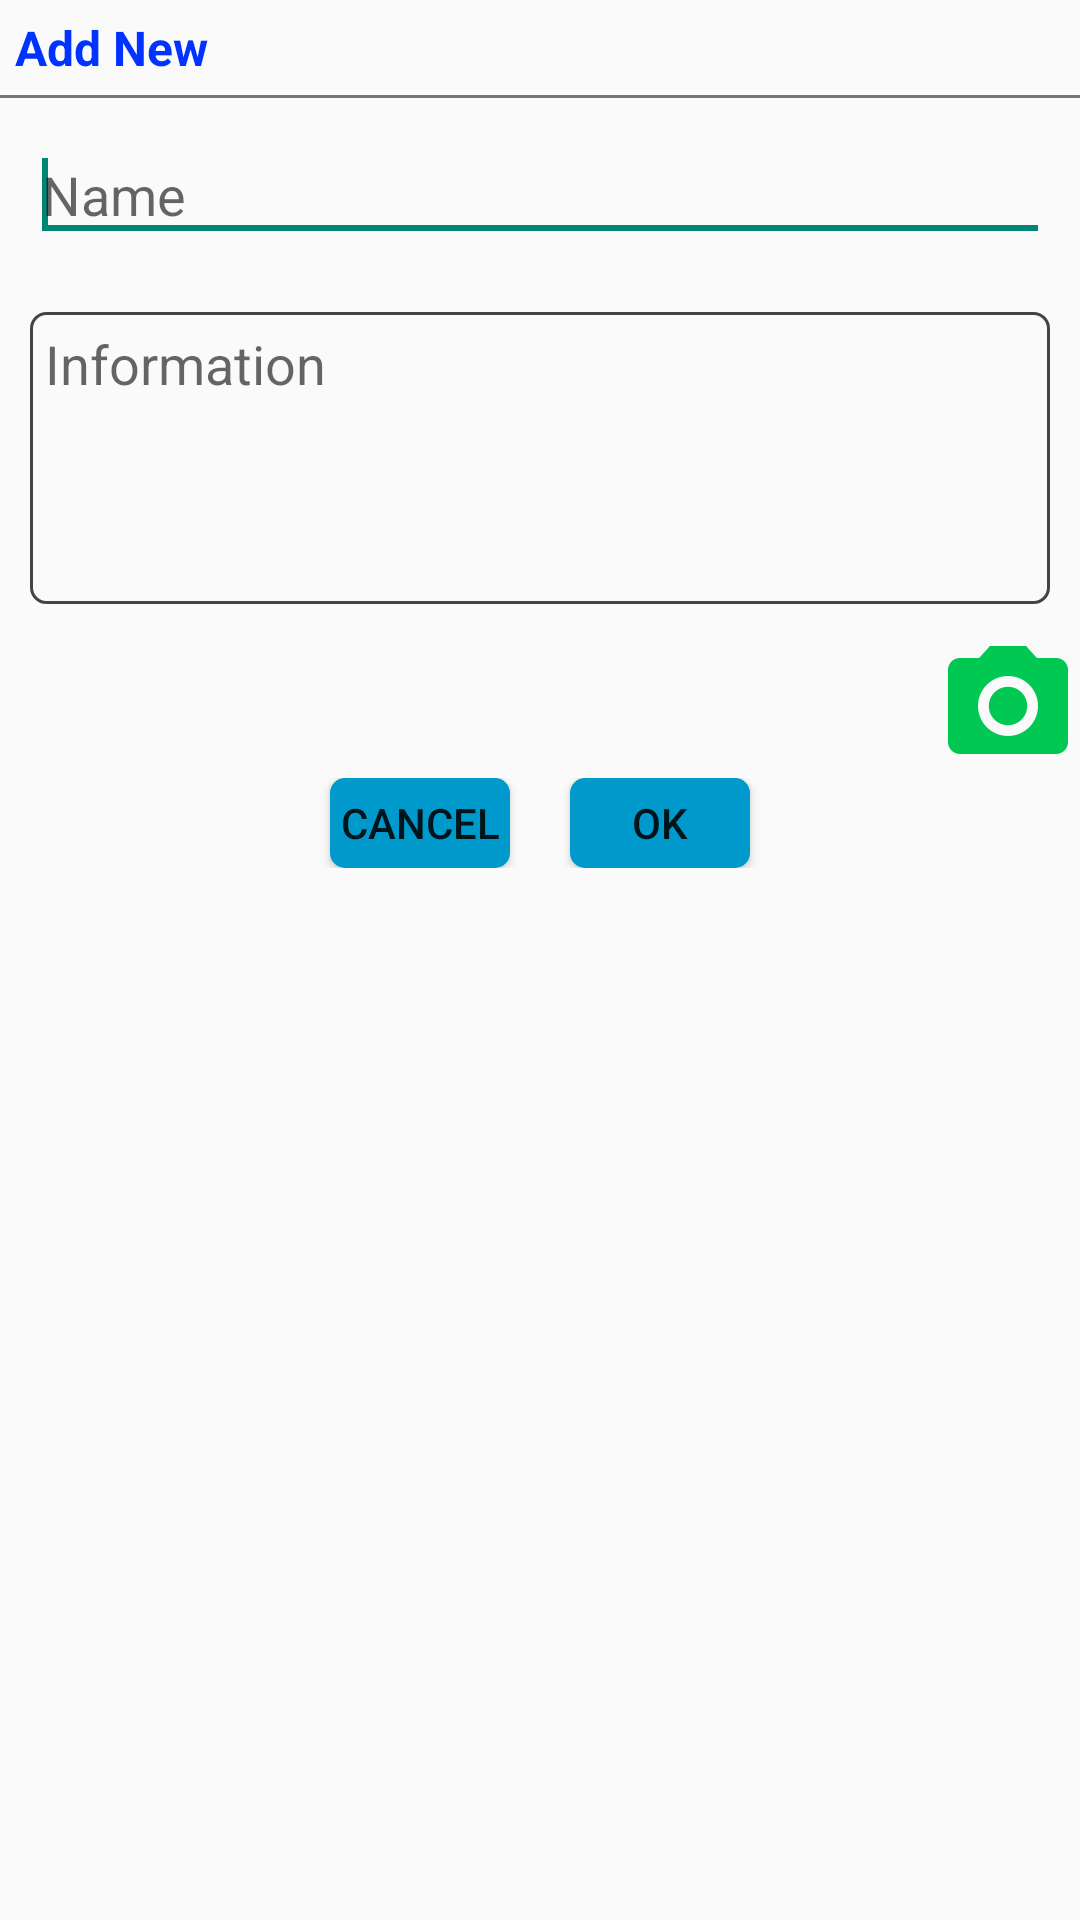

Icons on this 1080px×1920px Android screen, each with the point to tap as (x,y):
custom upload photo: (1008,700)
